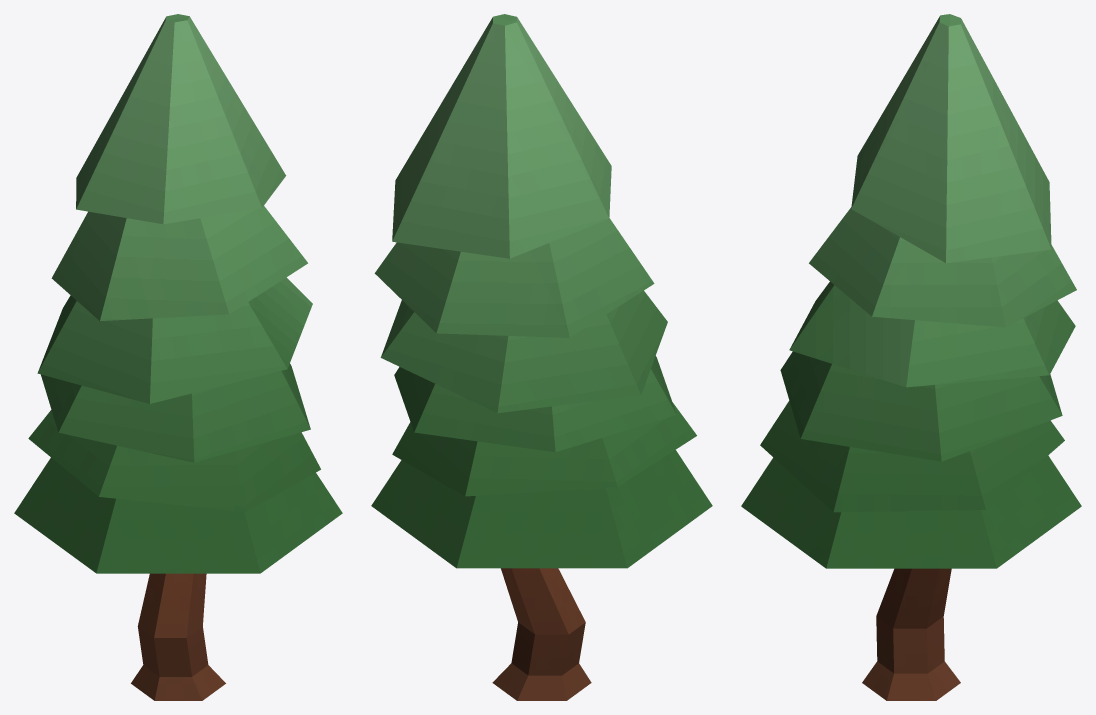
Rendered from pinheiro_medio.glb.
The picture shows the model from 3 angles, left to right: view 1: azimuth 30°, elevation 25°; view 2: azimuth 150°, elevation 25°; view 3: azimuth 270°, elevation 25°; orthographic projection. The views are drawn at different scales.
Visible parts, largest first — view 1: PineVariantAGrowingB; view 2: PineVariantAGrowingB; view 3: PineVariantAGrowingB.
Boxes of the visible parts, <box> form: PineVariantAGrowingB: <box>14,14,342,700</box>; PineVariantAGrowingB: <box>371,14,712,700</box>; PineVariantAGrowingB: <box>741,14,1081,700</box>.
Size of the model in its own units: 2.85 by 6.87 by 3.16.
Materials: 1 (1 with a texture image).
